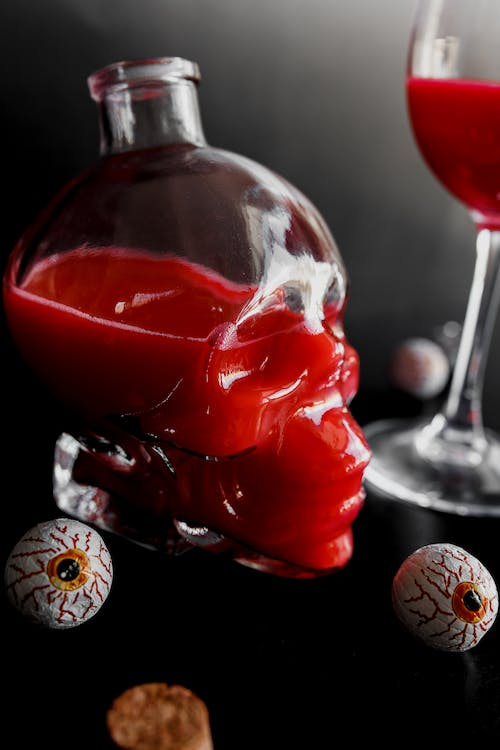blood: (0, 244, 373, 582), (400, 71, 500, 235)
